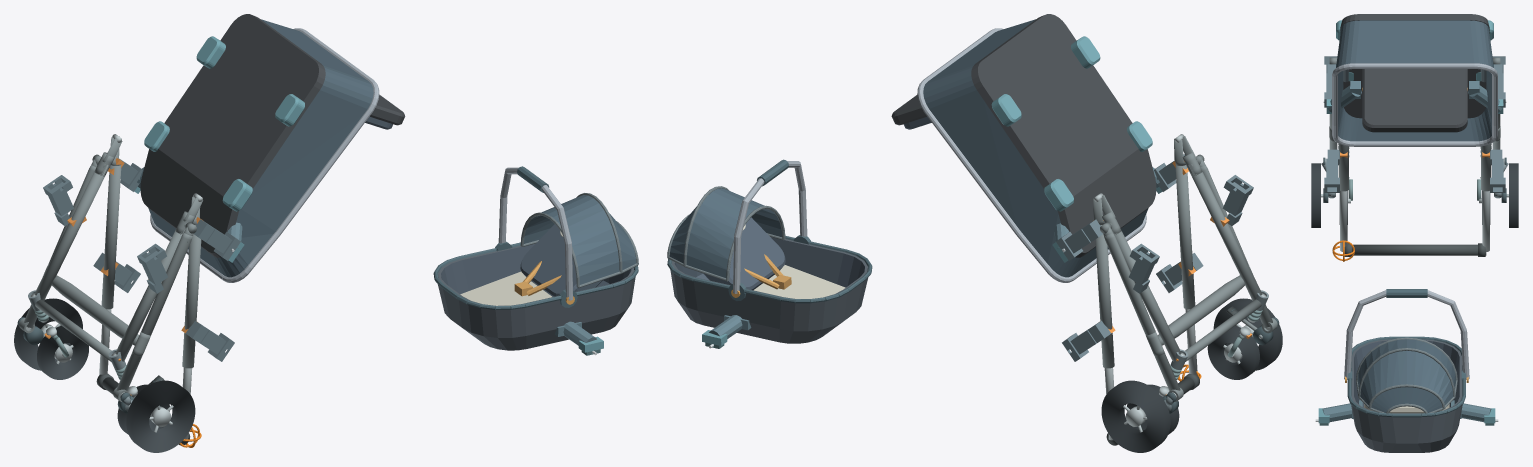
The model's file is D22_w550_state3_wheel_S.glb.
3 renders of one model, left to right at view 1: azimuth 30°, elevation 25°; view 2: azimuth 150°, elevation 25°; view 3: azimuth 270°, elevation 25°, orthographic. The views are drawn at different scales.
Parts seen in each view (by area): view 1: D22_Lower, D22_Upper, RL_tire.004, main_upper_1.005, main_lower_1.005, FR_tire.004, V46_rear_leg_-1.005, main_upper_-1.005, V46_rearbar.005, main_lower_-1.005, RR_tire.004, Universal_Cabin_Receiver_H_-1 (+6 smaller); view 2: D22_Lower, D22_Upper, RR_tire.004, main_upper_-1.005, main_lower_-1.005, FL_tire.004, V46_rear_leg_1.005, main_upper_1.005, V46_rearbar.005, main_lower_1.005, RL_tire.004, Universal_Cabin_Receiver_H_1 (+6 smaller); view 3: D22_Lower, D22_Upper, round_handle.004, D22_Upper_Mount_H, D22_Lower_Mount_M, RL_tire.004, RR_tire.004, Universal_Cabin_Receiver_H_1, Universal_Cabin_Receiver_H_-1, handle_slider_1.004, main_upper_1.005, main_upper_-1.005 (+4 smaller).
Part boxes in pixels (bbox=[...]): D22_Lower: bbox=[140, 14, 405, 282]; D22_Upper: bbox=[433, 166, 638, 350]; RL_tire.004: bbox=[126, 380, 195, 452]; main_upper_1.005: bbox=[101, 165, 121, 309]; main_lower_1.005: bbox=[34, 165, 108, 300]; FR_tire.004: bbox=[37, 326, 88, 379]; V46_rear_leg_-1.005: bbox=[116, 232, 192, 390]; main_upper_-1.005: bbox=[182, 225, 201, 368]; V46_rearbar.005: bbox=[52, 275, 138, 345]; main_lower_-1.005: bbox=[115, 229, 185, 361]; RR_tire.004: bbox=[14, 298, 82, 370]; Universal_Cabin_Receiver_H_-1: bbox=[185, 320, 234, 361]; D22_Lower: bbox=[891, 14, 1156, 282]; D22_Upper: bbox=[667, 159, 872, 343]; RR_tire.004: bbox=[1101, 380, 1170, 452]; main_upper_-1.005: bbox=[1175, 165, 1195, 309]; main_lower_-1.005: bbox=[1188, 165, 1262, 300]; FL_tire.004: bbox=[1207, 326, 1259, 379]; V46_rear_leg_1.005: bbox=[1104, 233, 1180, 390]; main_upper_1.005: bbox=[1095, 225, 1114, 368]; V46_rearbar.005: bbox=[1158, 275, 1244, 345]; main_lower_1.005: bbox=[1111, 229, 1181, 361]; RL_tire.004: bbox=[1213, 298, 1282, 370]; Universal_Cabin_Receiver_H_1: bbox=[1062, 320, 1111, 361]; D22_Lower: bbox=[1332, 14, 1497, 146]; D22_Upper: bbox=[1344, 289, 1469, 452]; round_handle.004: bbox=[1352, 244, 1486, 255]; D22_Upper_Mount_H: bbox=[1315, 400, 1498, 425]; D22_Lower_Mount_M: bbox=[1323, 81, 1506, 113]; RL_tire.004: bbox=[1311, 163, 1320, 227]; RR_tire.004: bbox=[1509, 163, 1518, 227]; Universal_Cabin_Receiver_H_1: bbox=[1490, 149, 1505, 192]; Universal_Cabin_Receiver_H_-1: bbox=[1324, 149, 1339, 192]; handle_slider_1.004: bbox=[1482, 191, 1489, 251]; main_upper_1.005: bbox=[1481, 143, 1491, 191]; main_upper_-1.005: bbox=[1338, 143, 1348, 191].
Bounding box in the file's own units: 1.73 × 1.04 × 0.641.
